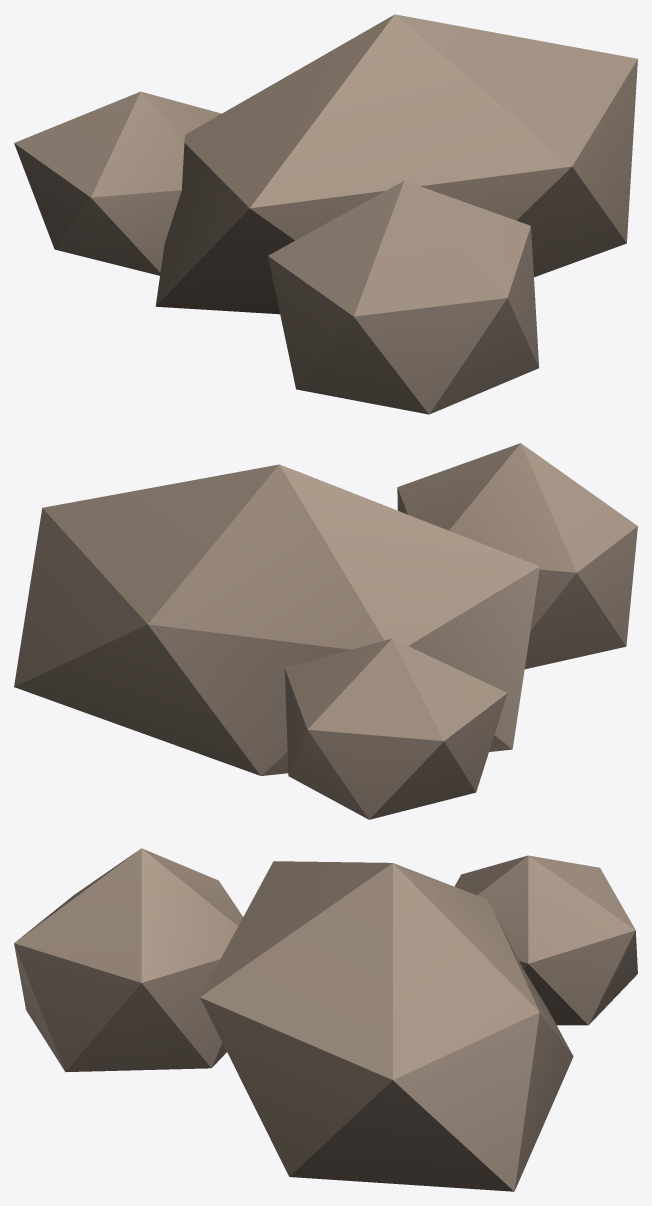
File: rocks_3.glb
3 views of the same model, one above another, from view 1: azimuth 30°, elevation 25°; view 2: azimuth 150°, elevation 25°; view 3: azimuth 270°, elevation 25° (orthographic). The views are drawn at different scales.
Visible parts, largest first — view 1: rocks_3; view 2: rocks_3; view 3: rocks_3.
Boxes of the visible parts, x1,y1,x2,y2 form: rocks_3: (14,14,637,414); rocks_3: (14,443,637,819); rocks_3: (14,848,637,1191).
Bounding box in the file's own units: 4.06 × 1.75 × 4.33.
